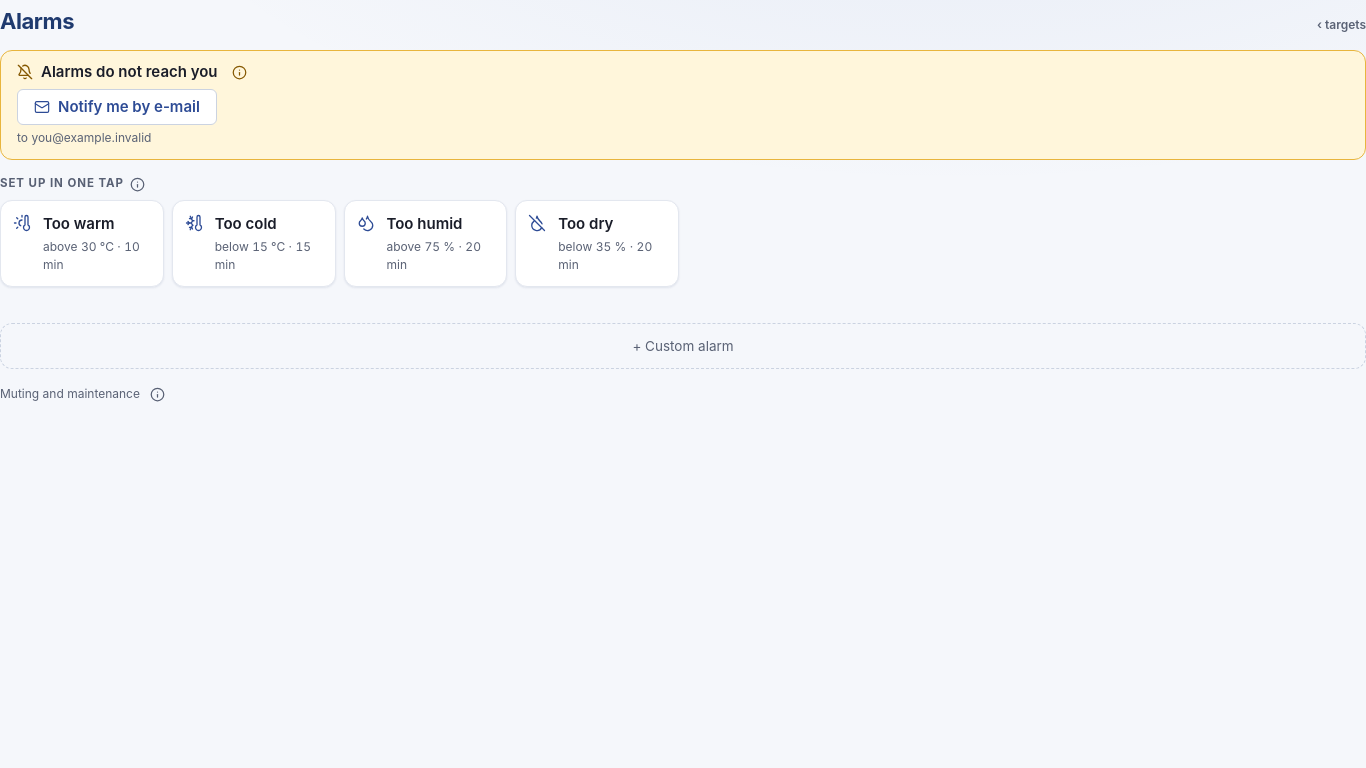
Scenario: the rule sheet › offers a plug both the output it drives and the climate it measures
The image size is (1366, 768).
What coordinates should you click on to do the following:
click the button "+ Custom alarm"
I would click on:
 (683, 346)
Its box is [0,323,1365,369].
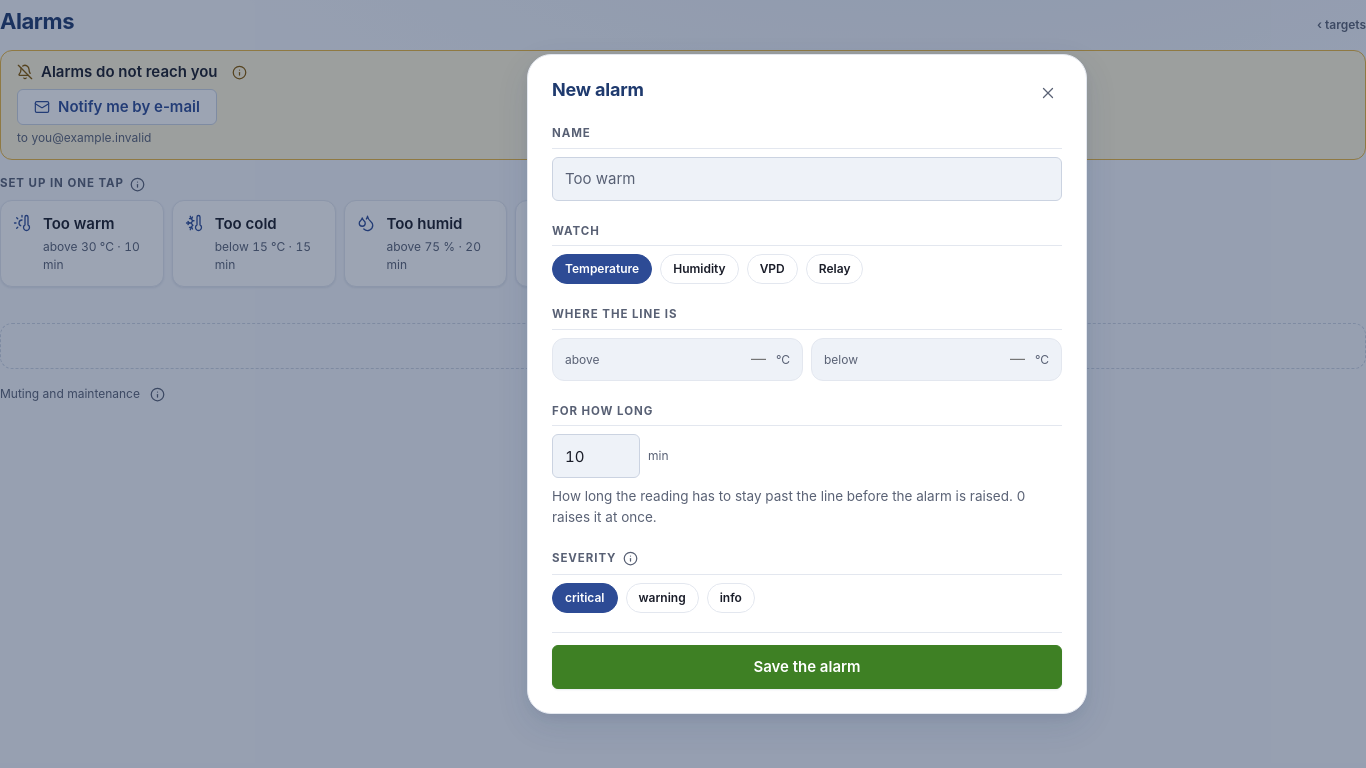
Expected: the button "Relay" is shown, [806,254,864,284]
Expected: the button "VPD" is shown, [747,254,798,284]
